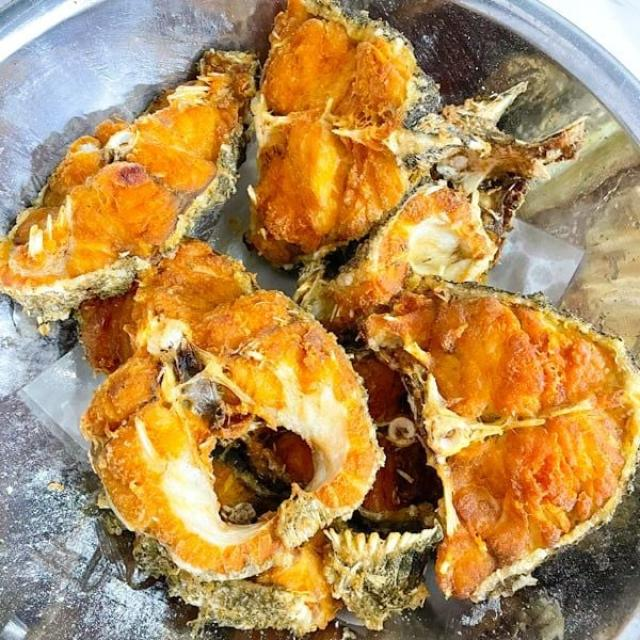ca chien: (81, 239, 381, 580), (359, 281, 639, 597), (0, 50, 258, 331), (295, 85, 583, 330), (247, 0, 461, 266)
